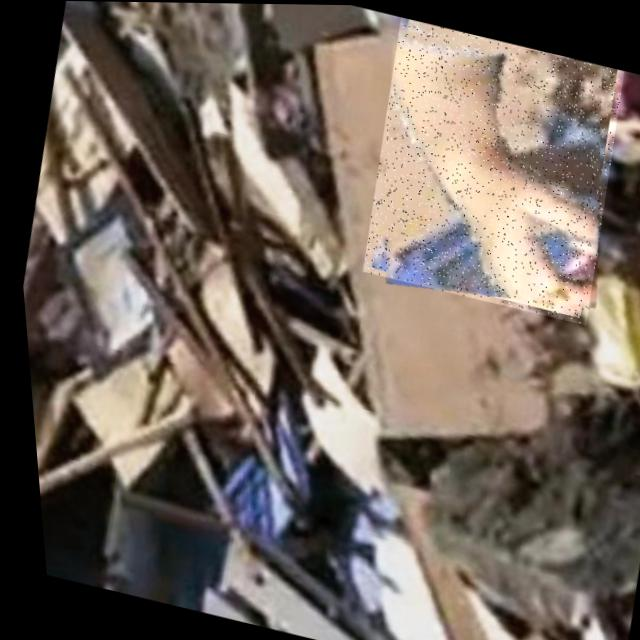Person in Rubble: (342, 14, 639, 323)
